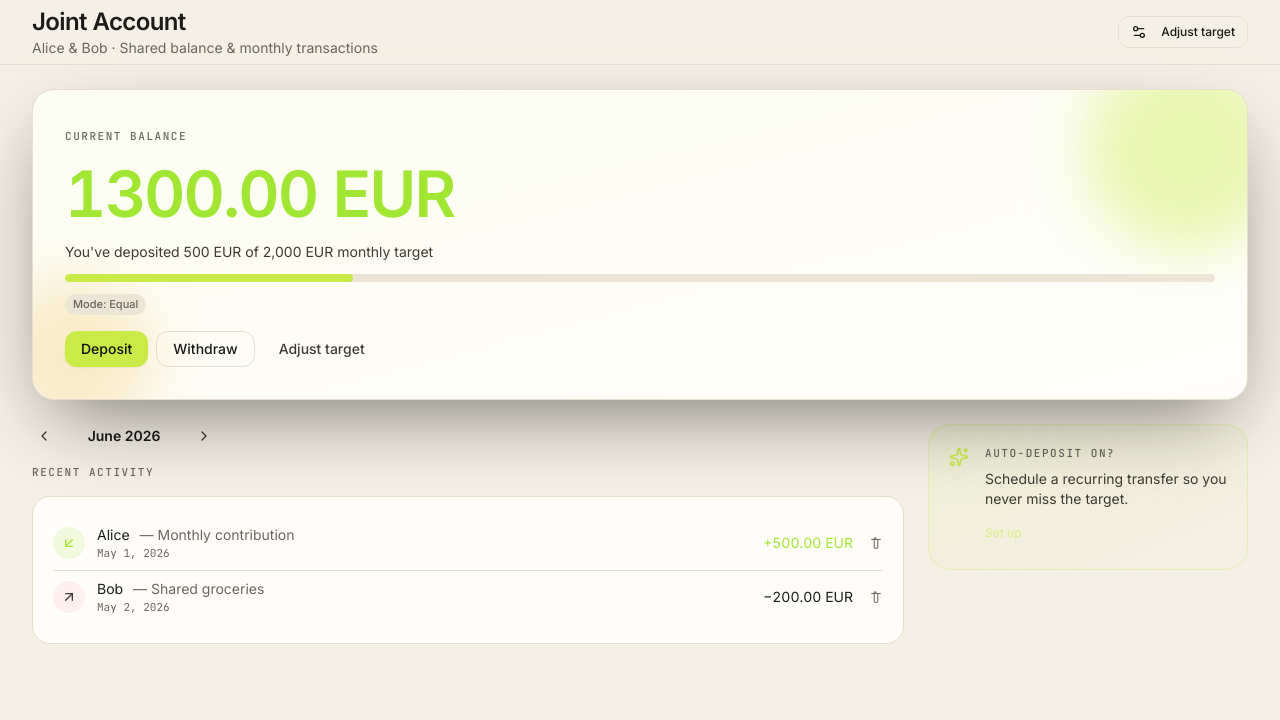
Test: <AccountPage /> flows › L.3 — Withdraw button opens AddTransactionForm in withdrawal mode (regression pin)
What coordinates should you click on to do the following:
click the button "Withdraw"
I would click on:
 (205, 348)
Its box is [156,330,255,366].
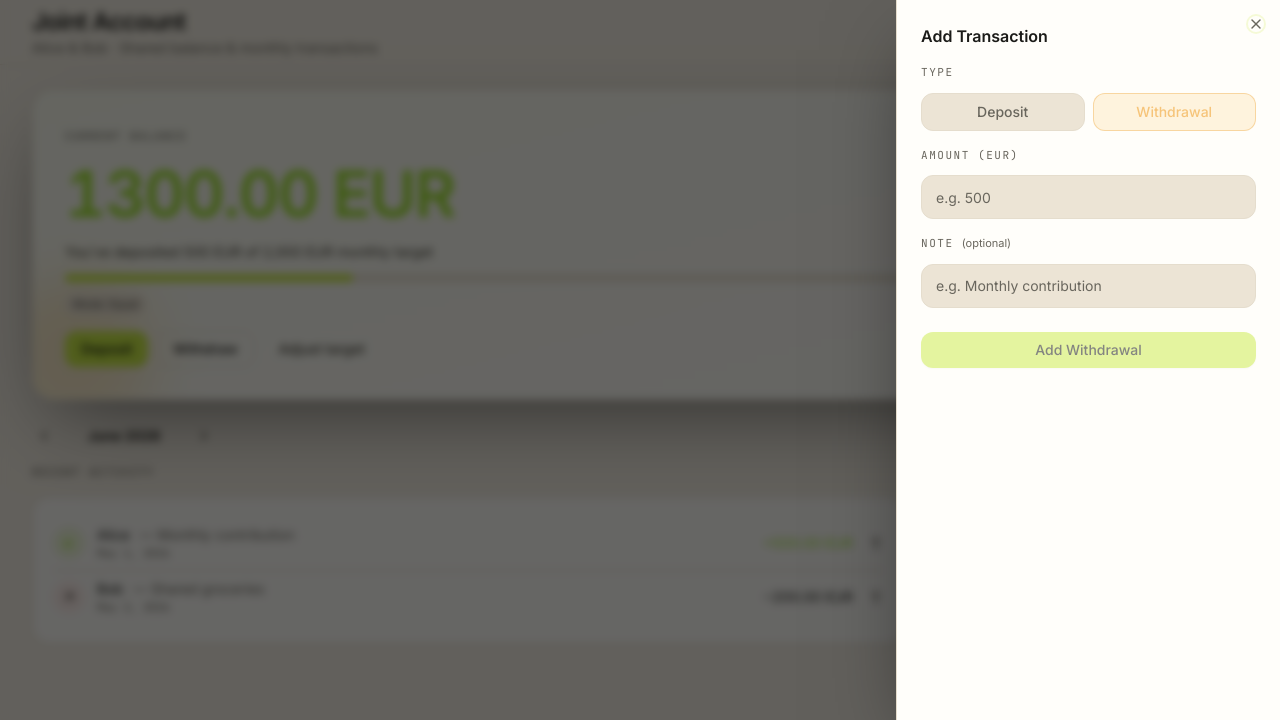
Now the button "Add Withdrawal" is shown, box [921,332,1256,368]
